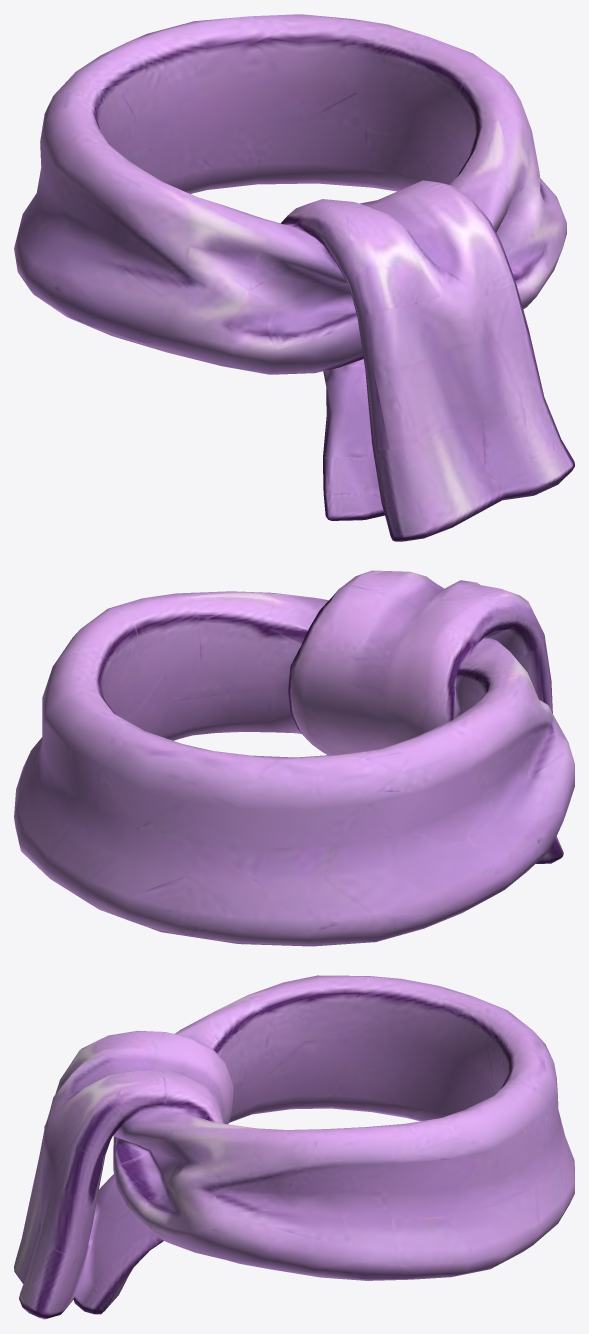
File: item-silkScarf.glb
3 renders of one model, top to bottom at view 1: azimuth 30°, elevation 25°; view 2: azimuth 150°, elevation 25°; view 3: azimuth 270°, elevation 25°, orthographic. The views are drawn at different scales.
Size of the model in its own units: 0.7979 by 0.4595 by 0.9526.
1 material, 1 textured.
